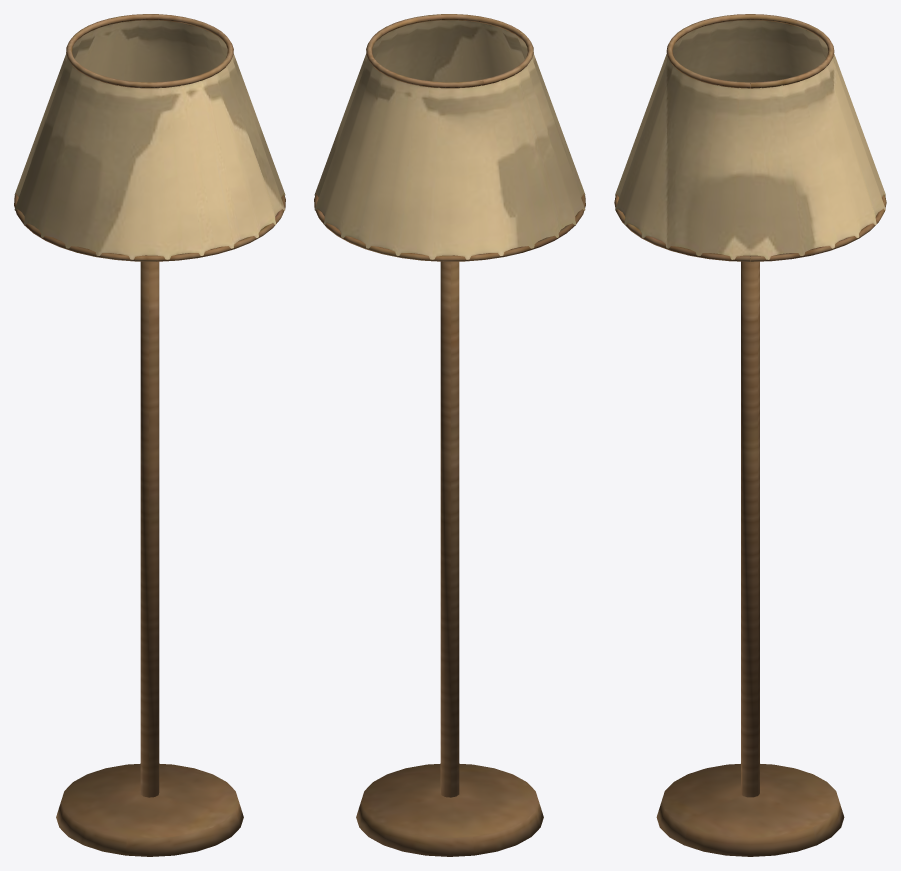
Rendered from floor_lamp.glb.
The picture shows the model from 3 angles, left to right: view 1: azimuth 30°, elevation 25°; view 2: azimuth 150°, elevation 25°; view 3: azimuth 270°, elevation 25°; orthographic projection.
Parts seen in each view (by area): view 1: prop_floor_lamp_paper, prop_floor_lamp_wood; view 2: prop_floor_lamp_paper, prop_floor_lamp_wood; view 3: prop_floor_lamp_paper, prop_floor_lamp_wood.
Boxes of the visible parts, x1=… form: prop_floor_lamp_paper: x1=14, y1=20, x2=285, y2=259; prop_floor_lamp_wood: x1=14, y1=14, x2=285, y2=856; prop_floor_lamp_paper: x1=314, y1=20, x2=585, y2=259; prop_floor_lamp_wood: x1=314, y1=14, x2=585, y2=856; prop_floor_lamp_paper: x1=615, y1=20, x2=885, y2=259; prop_floor_lamp_wood: x1=614, y1=14, x2=886, y2=856.
Bounding box in the file's own units: 1.04 × 3.25 × 1.04.
Materials: 2 (2 with a texture image).
